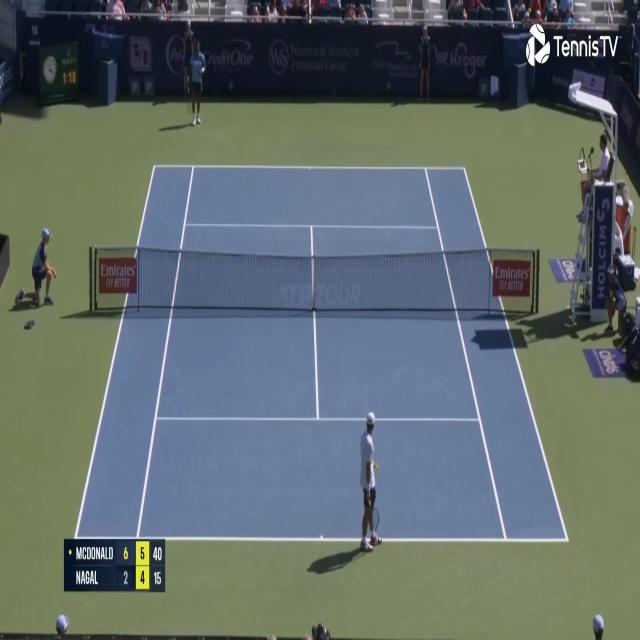tennis-player: (357, 409, 383, 556), (185, 36, 207, 128)
